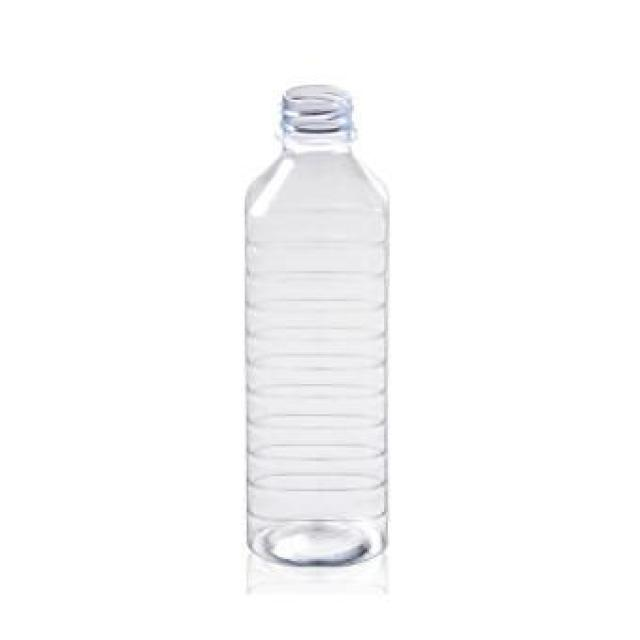bottle: (243, 83, 391, 568)
